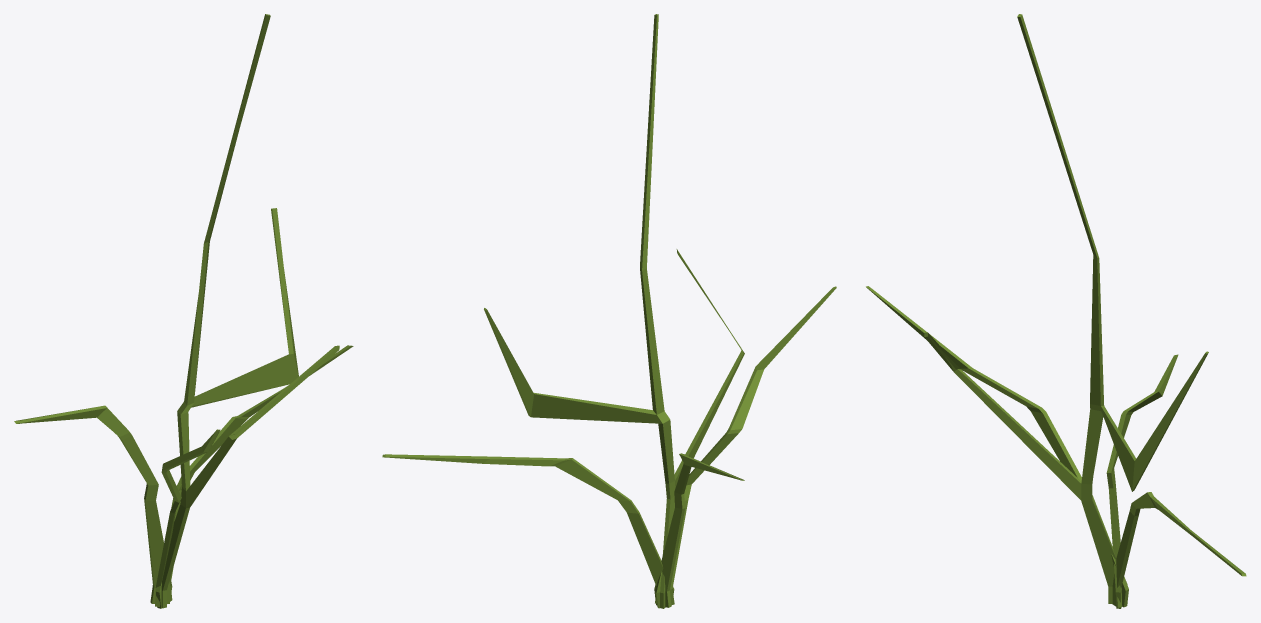
The picture shows the model from 3 angles, left to right: view 1: azimuth 30°, elevation 25°; view 2: azimuth 150°, elevation 25°; view 3: azimuth 270°, elevation 25°; orthographic projection. The views are drawn at different scales.
Parts seen in each view (by area): view 1: gazon 4; view 2: gazon 4; view 3: gazon 4.
Part boxes in pixels (left/top/right/bottom): gazon 4: left=14, top=14, right=353, bottom=608; gazon 4: left=382, top=14, right=836, bottom=608; gazon 4: left=866, top=14, right=1246, bottom=608.
Size of the model in its own units: 49.65 by 78.16 by 43.67.
